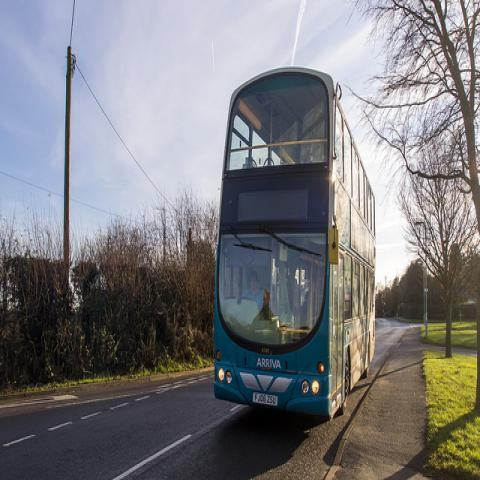bus: (211, 65, 377, 416)
